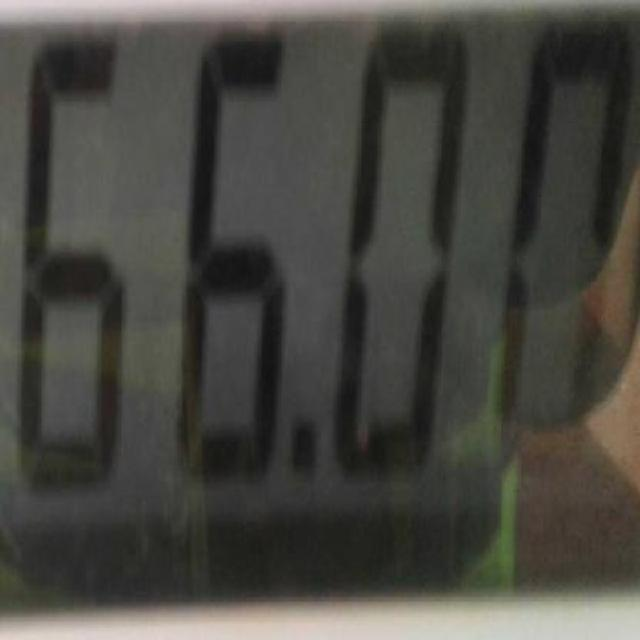.: (285, 418, 327, 480)
0: (316, 17, 481, 499), (492, 16, 640, 499)
6: (14, 17, 151, 503), (160, 17, 292, 489)
